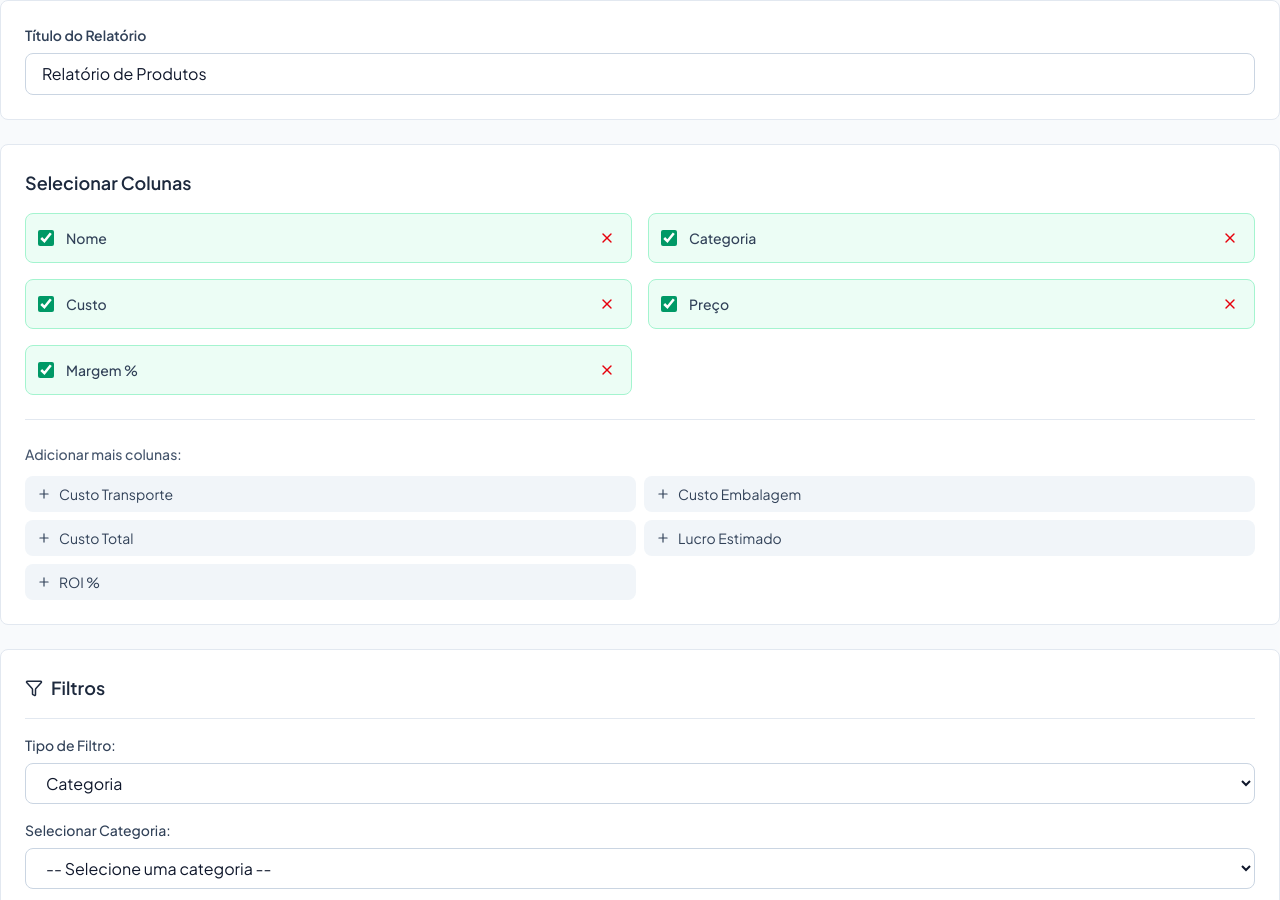
it: ReportBuilder - Filter Functionality › Filter Display with Decimal Values › should display price range filter with decimal values
Select "Faixa de Preço" in the dropdown below "Tipo de Filtro:" at (640, 784), box [25, 763, 1255, 804]
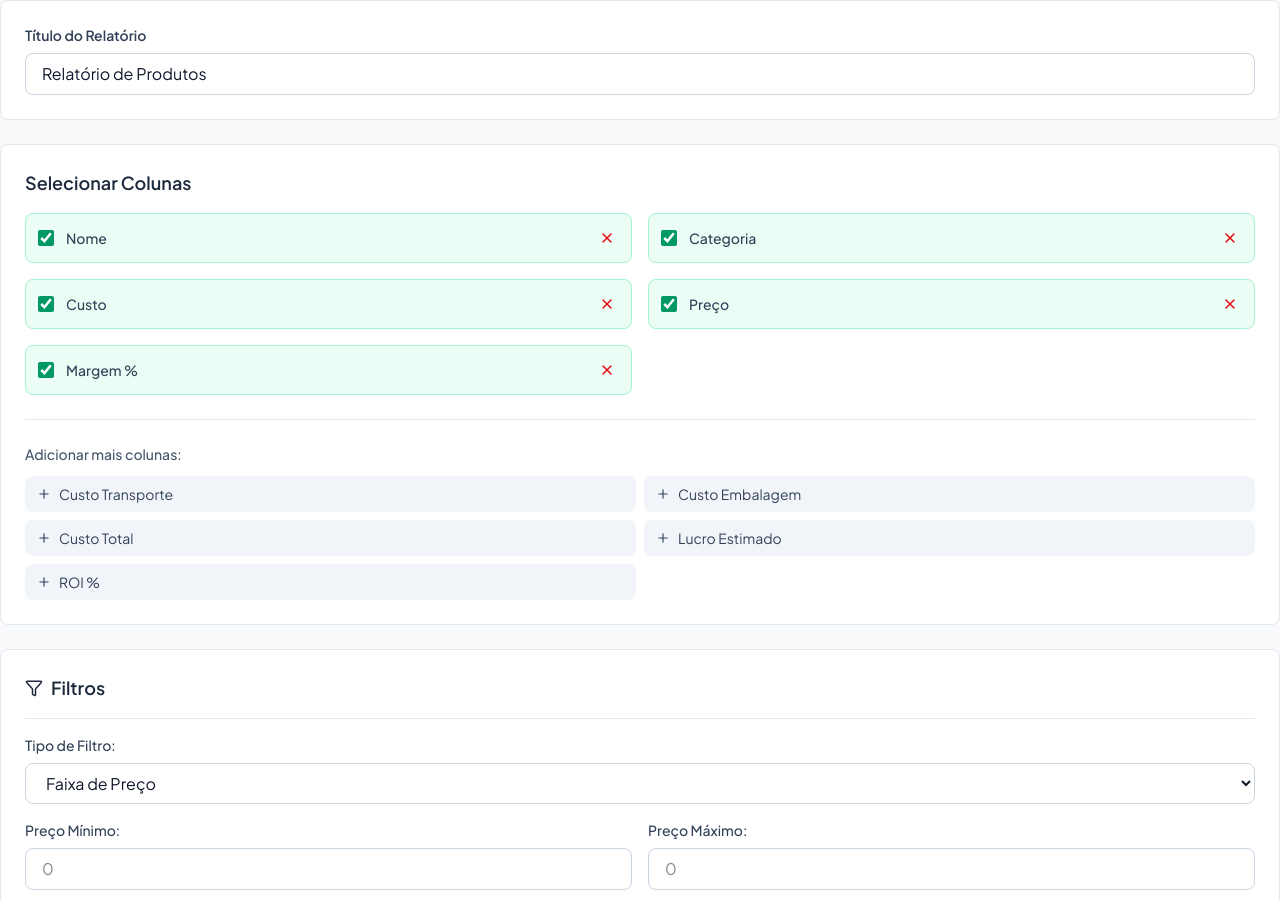
Type "99.99" into the number field with placeholder "0" at (328, 869), box [25, 848, 632, 890]
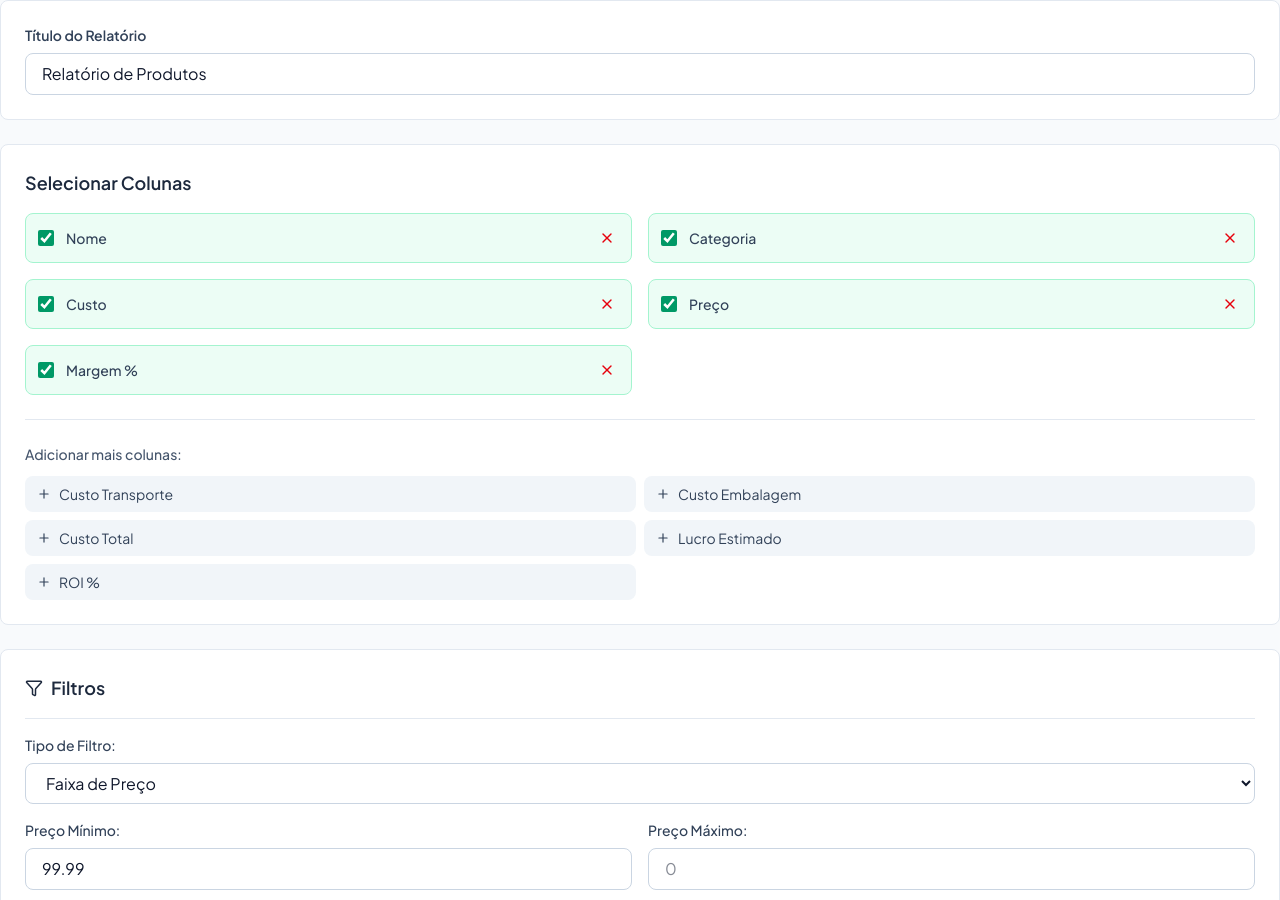
Type "200.50" into the number field with placeholder "0" at (952, 869), box [648, 848, 1255, 890]
(page scrolled)
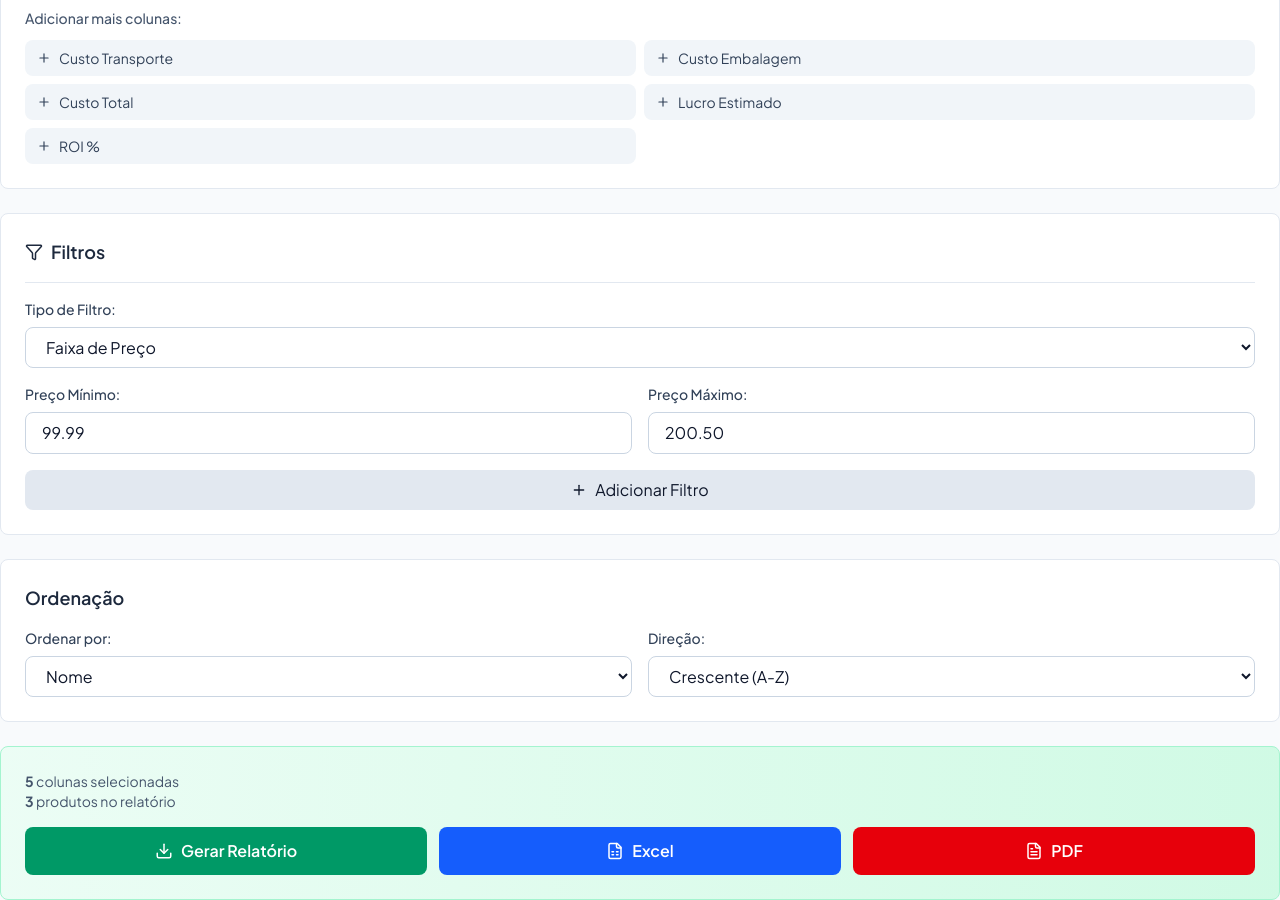
Click the button "Adicionar Filtro" at (640, 490), box [25, 470, 1255, 510]
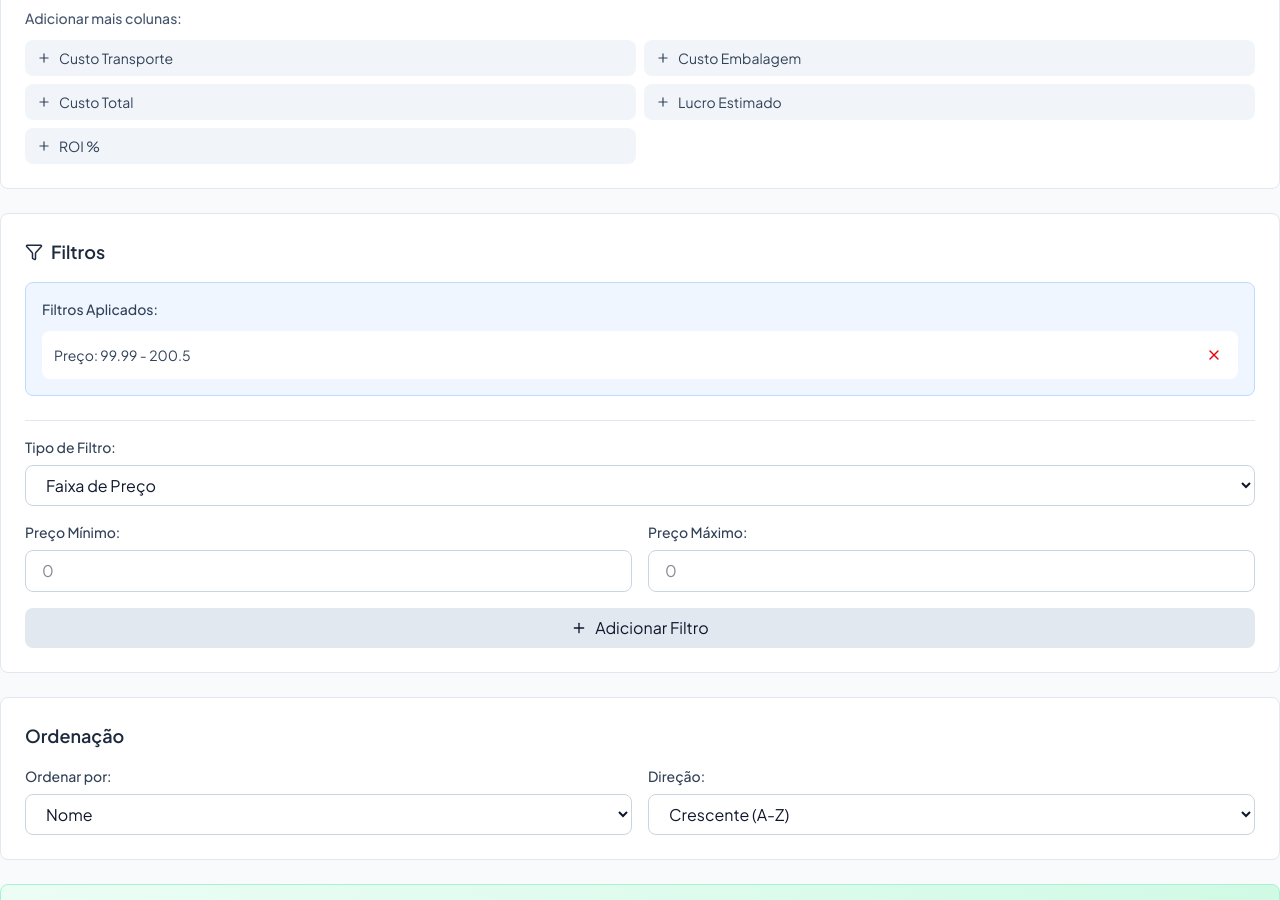
Expected: the text "Preço: 99.99 - 200.5" is shown, [54, 345, 191, 365]
